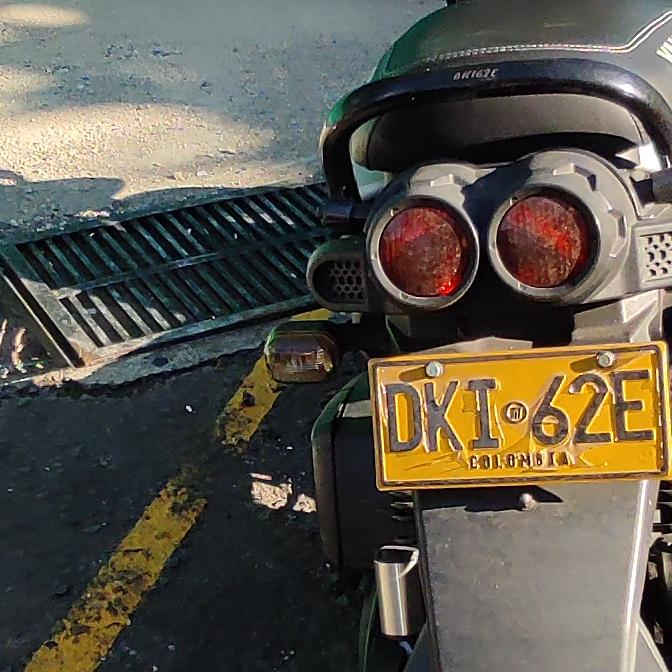plates: (371, 348, 666, 483)
